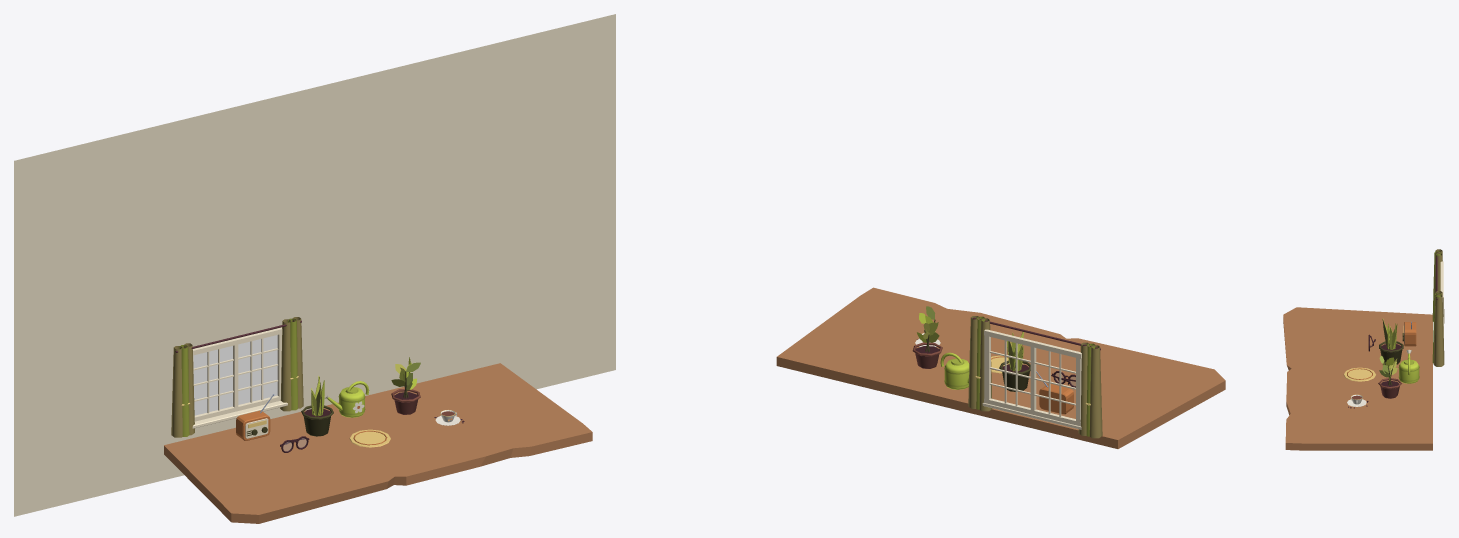
Rendered from referencia-escenario-3-oldage.glb.
The picture shows the model from 3 angles, left to right: view 1: azimuth 30°, elevation 25°; view 2: azimuth 150°, elevation 25°; view 3: azimuth 270°, elevation 25°; orthographic projection. The views are drawn at different scales.
Visible parts, largest first — view 1: Pared, Cube, Ventana parte 1, Ventana parte 21, Ventana parte 24, Ventana parte 20, Ventana parte 25; view 2: Cube, Ventana parte 21, Radio parte 1, Ventana parte 26, Ventana parte 2; view 3: Cube, Ventana parte 26, watering-can-body, Individual parte 1, Radio parte 1, Ventana parte 19.
Part boxes in pixels (x1,y1,x2,y2): Pared: (14,14,615,516); Cube: (164,363,592,523); Ventana parte 1: (193,335,277,415); Ventana parte 21: (171,346,182,437); Ventana parte 24: (280,319,291,411); Ventana parte 20: (179,345,189,436); Ventana parte 25: (287,318,297,410); Cube: (776,287,1225,448); Ventana parte 21: (1089,345,1102,438); Radio parte 1: (1039,383,1073,414); Ventana parte 26: (968,316,979,408); Ventana parte 2: (984,329,1081,358); Cube: (1283,307,1432,450); Ventana parte 26: (1433,294,1444,366); watering-can-body: (1399,359,1419,383); Individual parte 1: (1343,367,1375,381); Radio parte 1: (1404,322,1416,346); Ventana parte 19: (1433,253,1444,323).
Bounding box in the file's own units: 46 × 26 × 13.61.
